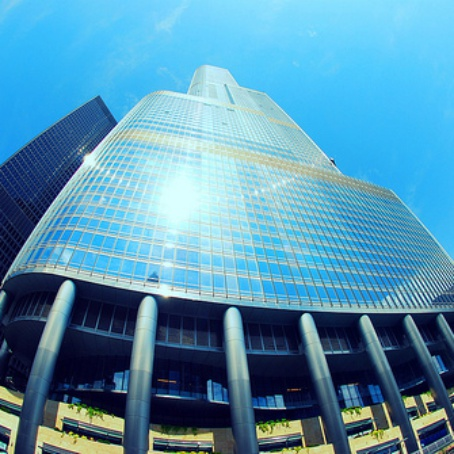building: (40, 43, 454, 436), (1, 87, 108, 271)
sky: (1, 1, 452, 183)
